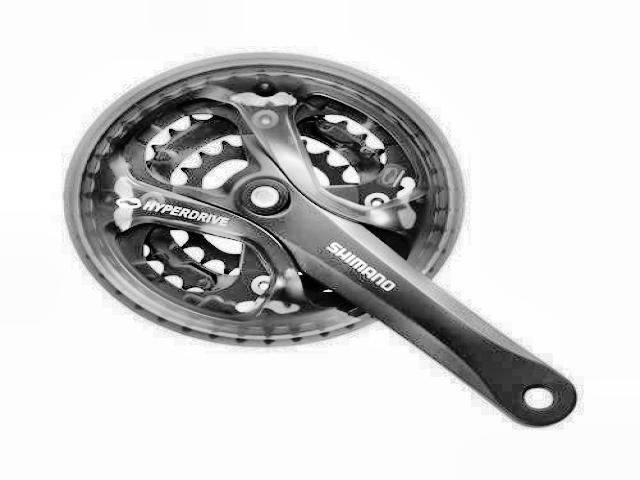cranks_set: (58, 50, 583, 433)
